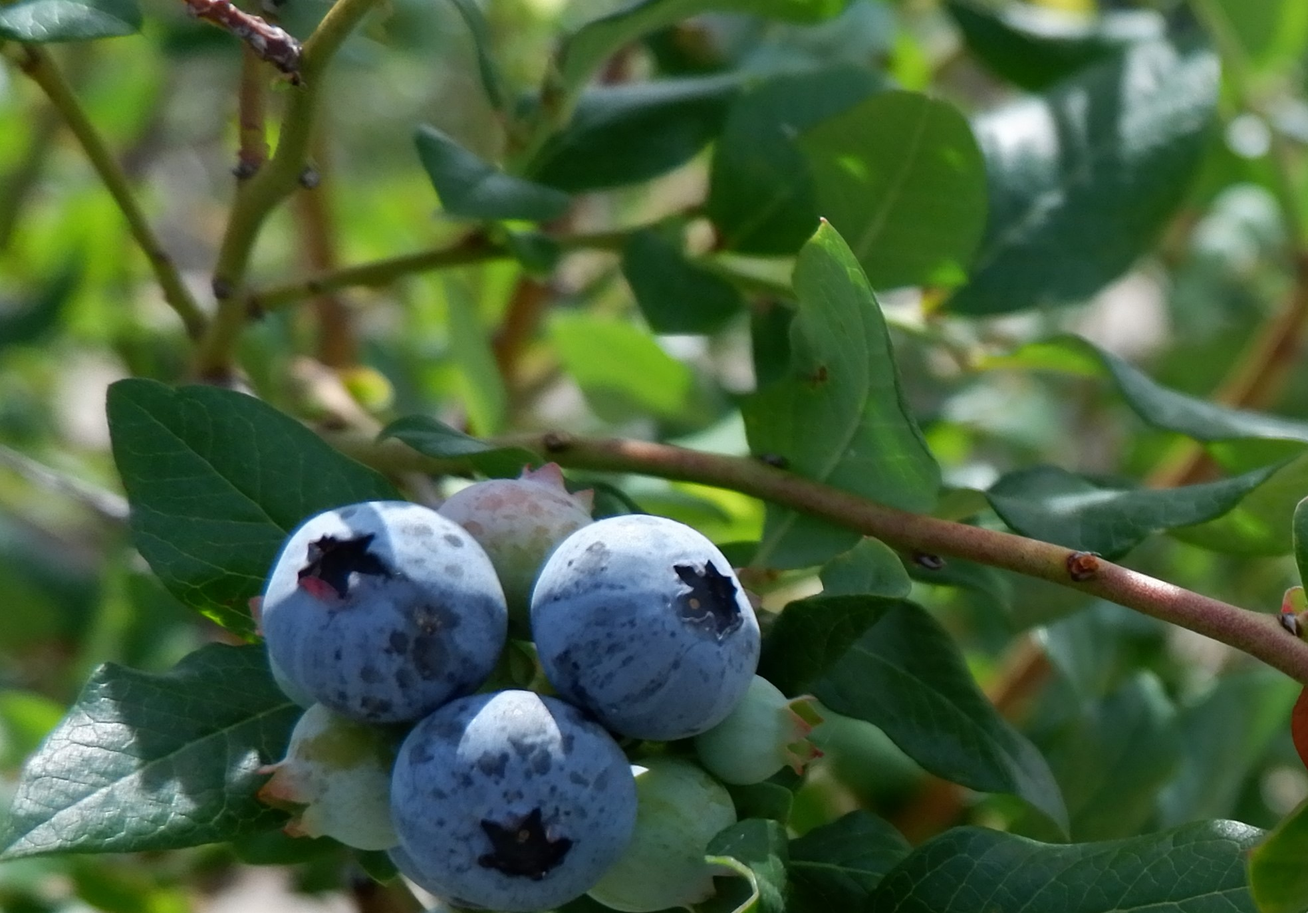Immature: (443, 465, 595, 628), (587, 759, 749, 909), (270, 702, 392, 850), (702, 679, 806, 783)
Mature: (263, 503, 507, 725), (387, 691, 633, 911), (535, 512, 758, 736)
